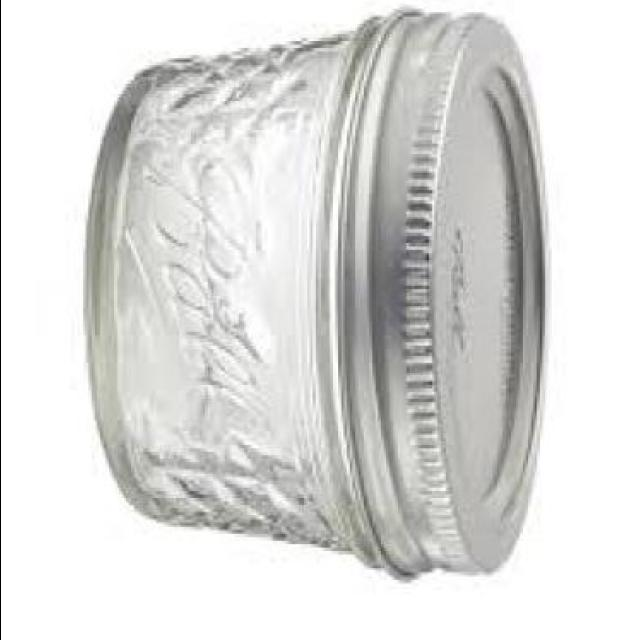kaca: (91, 18, 380, 548)
